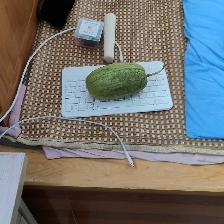gua: (85, 62, 151, 97)
